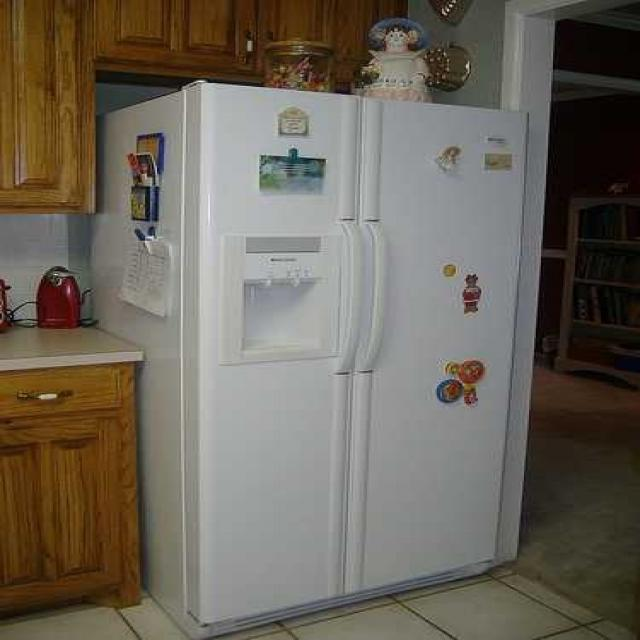refrigerator: (218, 43, 529, 640)
